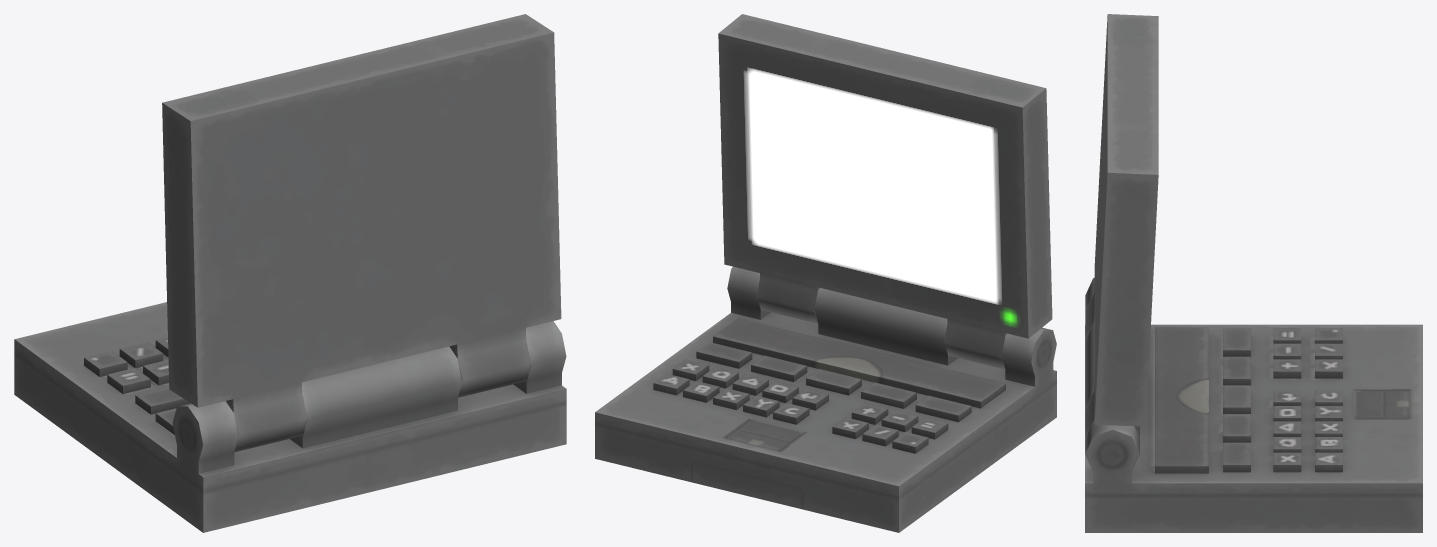
Rendered from Pfb_Computer__7.fbx.
The picture shows the model from 3 angles, left to right: view 1: azimuth 30°, elevation 25°; view 2: azimuth 150°, elevation 25°; view 3: azimuth 270°, elevation 25°; orthographic projection. The views are drawn at different scales.
Visible parts, largest first — view 1: Mat_Computer_01_01 _2; view 2: Mat_Computer_01_01 _2; view 3: Mat_Computer_01_01 _2.
Part boxes in pixels (box(x1,y1,x2,y2)): Mat_Computer_01_01 _2: box(14, 14, 566, 532); Mat_Computer_01_01 _2: box(595, 14, 1056, 532); Mat_Computer_01_01 _2: box(1085, 14, 1422, 532).
Bounding box in the file's own units: 0.4671 × 0.4943 × 0.42.
Materials: 1 (1 with a texture image).
